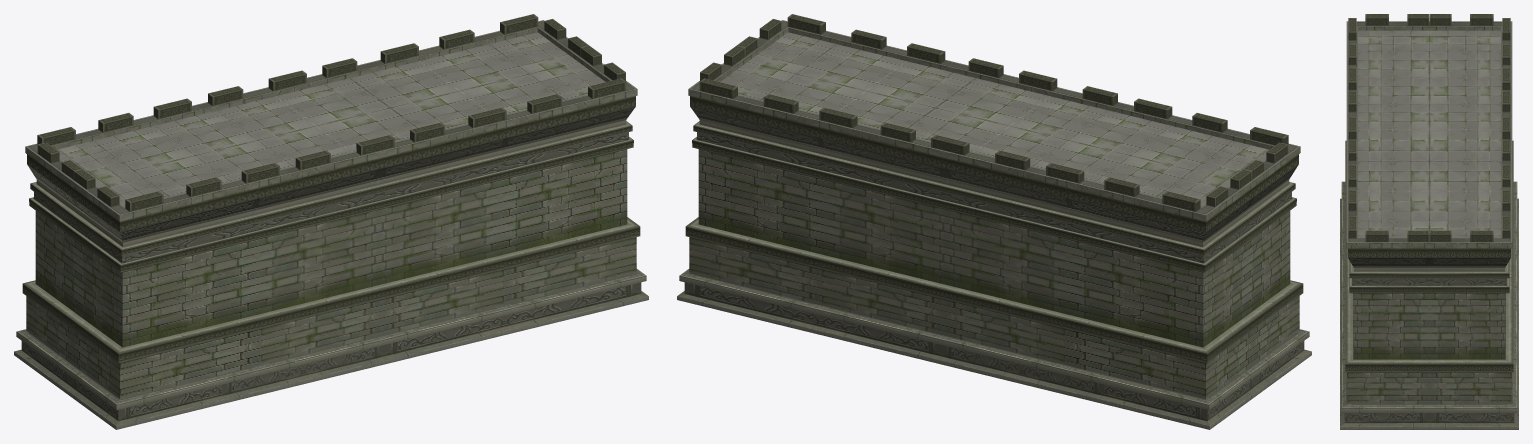
File: Yland3_jz_02 Yland3.FBX
3 renders of one model, left to right at view 1: azimuth 30°, elevation 25°; view 2: azimuth 150°, elevation 25°; view 3: azimuth 270°, elevation 25°, orthographic. The views are drawn at different scales.
Parts seen in each view (by area): view 1: Yland3_jz_02 Yland3; view 2: Yland3_jz_02 Yland3; view 3: Yland3_jz_02 Yland3.
Part boxes in pixels (box(x1,y1,x2,y2)): Yland3_jz_02 Yland3: box(14, 14, 648, 429); Yland3_jz_02 Yland3: box(677, 14, 1311, 429); Yland3_jz_02 Yland3: box(1340, 14, 1518, 429).
Bounding box in the file's own units: 11.8 × 4.64 × 3.92.
